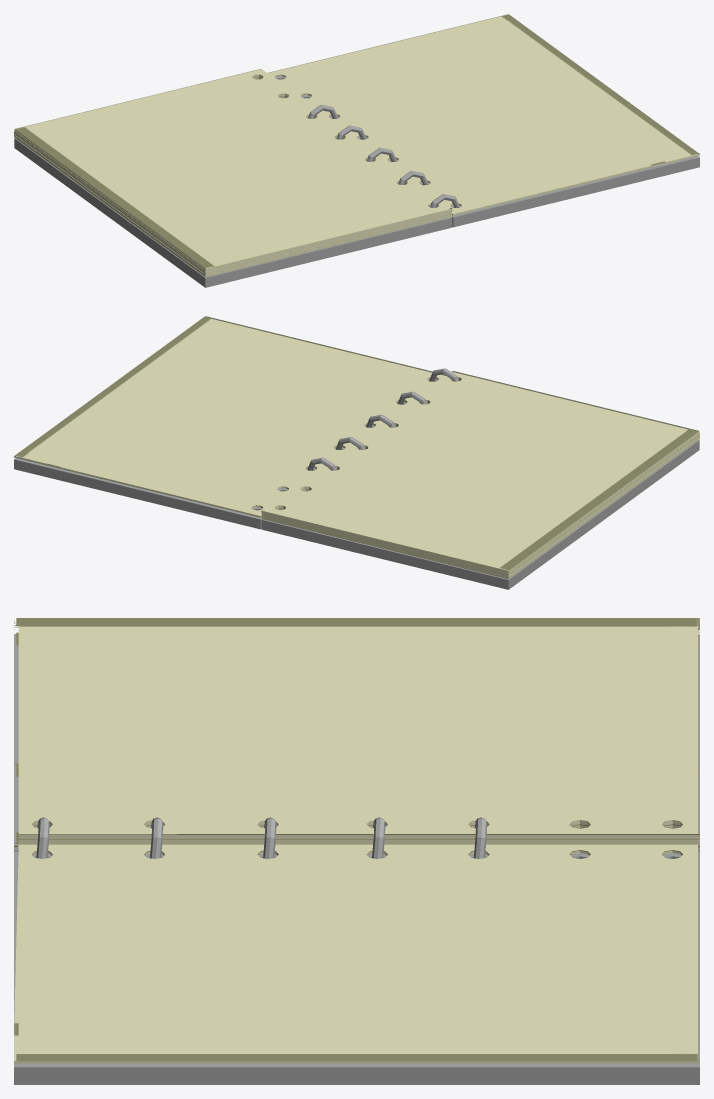
File: 手册_empty.fbx
The picture shows the model from 3 angles, top to bottom: view 1: azimuth 30°, elevation 25°; view 2: azimuth 150°, elevation 25°; view 3: azimuth 270°, elevation 25°; orthographic projection. The views are drawn at different scales.
Parts seen in each view (by area): view 1: polySurface10, polySurface7, polySurface1, polySurface2, polySurface9, polySurface8, polySurface6, polySurface5, polySurface4; view 2: polySurface10, polySurface7, polySurface1, polySurface2, polySurface9, polySurface8, polySurface6, polySurface5, polySurface4; view 3: polySurface7, polySurface10, polySurface2, polySurface5, polySurface9, polySurface8, polySurface1.
Boxes of the visible parts, x1,y1,x2,y2 form: polySurface10: (14,69,452,270); polySurface7: (267,14,699,215); polySurface1: (14,138,452,287); polySurface2: (275,76,699,227); polySurface9: (14,76,452,271); polySurface8: (14,77,451,273); polySurface6: (14,135,451,275); polySurface5: (14,98,452,274); polySurface4: (14,137,451,276); polySurface10: (261,371,699,572); polySurface7: (14,316,445,517); polySurface1: (261,440,699,589); polySurface2: (14,379,438,529); polySurface9: (261,378,699,573); polySurface8: (262,380,699,575); polySurface6: (262,437,699,577); polySurface5: (261,436,699,576); polySurface4: (262,439,699,578); polySurface7: (14,844,699,1063); polySurface10: (14,618,699,836); polySurface2: (14,851,699,1084); polySurface5: (18,625,699,844); polySurface9: (14,621,699,839); polySurface8: (14,623,699,841); polySurface1: (14,634,699,851).
Size of the model in its own units: 0.9913 by 0.0645 by 0.6633.
Materials: 3 (1 with a texture image).
